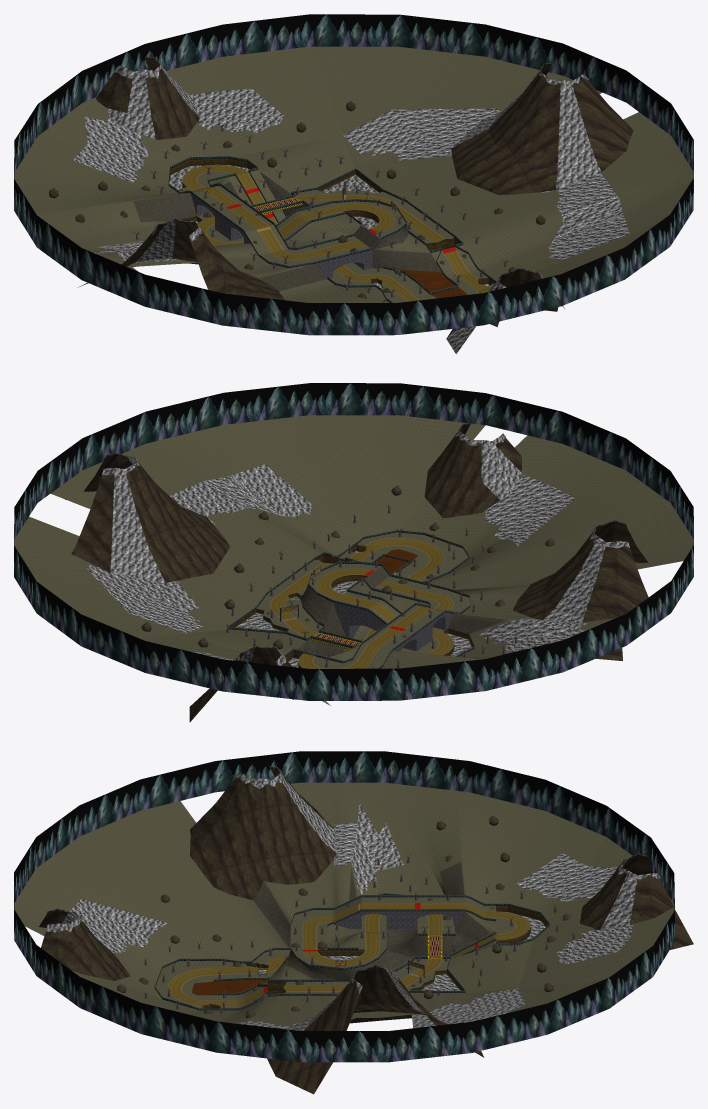
3 renders of one model, top to bottom at view 1: azimuth 30°, elevation 25°; view 2: azimuth 150°, elevation 25°; view 3: azimuth 270°, elevation 25°, orthographic. The views are drawn at different scales.
Parts seen in each view (by area): view 1: AutoSave_2_1-SKP--grass, AutoSave_2_1-SKP--bg, AutoSave_2_1-SKP--lava, AutoSave_2_1-SKP--gv_volc, AutoSave_2_1-SKP--vv_road, AutoSave_2_1-SKP--wl, AutoSave_2_1-SKP--fence, AutoSave_2_1-SKP--tree, AutoSave_2_1-SKP--wr, AutoSave_2_1-SKP--wm, AutoSave_2_1-SKP--vv_rock, AutoSave_2_1-SKP--tf_mud; view 2: AutoSave_2_1-SKP--grass, AutoSave_2_1-SKP--bg, AutoSave_2_1-SKP--lava, AutoSave_2_1-SKP--gv_volc, AutoSave_2_1-SKP--vv_road, AutoSave_2_1-SKP--fence, AutoSave_2_1-SKP--wl, AutoSave_2_1-SKP--wm, AutoSave_2_1-SKP--tree, AutoSave_2_1-SKP--wr, AutoSave_2_1-SKP--vv_rock, AutoSave_2_1-SKP--tf_mud; view 3: AutoSave_2_1-SKP--grass, AutoSave_2_1-SKP--bg, AutoSave_2_1-SKP--gv_volc, AutoSave_2_1-SKP--lava, AutoSave_2_1-SKP--vv_road, AutoSave_2_1-SKP--wl, AutoSave_2_1-SKP--fence, AutoSave_2_1-SKP--tree, AutoSave_2_1-SKP--vv_rock, AutoSave_2_1-SKP--wr, AutoSave_2_1-SKP--wm, AutoSave_2_1-SKP--tf_mud.
Boxes of the visible parts, x1=… form: AutoSave_2_1-SKP--grass: x1=14, y1=46, x2=693, y2=302; AutoSave_2_1-SKP--bg: x1=14, y1=14, x2=693, y2=335; AutoSave_2_1-SKP--lava: x1=73, y1=56, x2=629, y2=354; AutoSave_2_1-SKP--gv_volc: x1=77, y1=57, x2=633, y2=337; AutoSave_2_1-SKP--vv_road: x1=182, y1=164, x2=490, y2=301; AutoSave_2_1-SKP--wl: x1=133, y1=172, x2=441, y2=291; AutoSave_2_1-SKP--fence: x1=168, y1=156, x2=496, y2=302; AutoSave_2_1-SKP--tree: x1=132, y1=123, x2=509, y2=302; AutoSave_2_1-SKP--wr: x1=168, y1=158, x2=494, y2=287; AutoSave_2_1-SKP--wm: x1=191, y1=194, x2=456, y2=278; AutoSave_2_1-SKP--vv_rock: x1=49, y1=101, x2=545, y2=298; AutoSave_2_1-SKP--tf_mud: x1=401, y1=269, x2=466, y2=298; AutoSave_2_1-SKP--grass: x1=14, y1=415, x2=693, y2=668; AutoSave_2_1-SKP--bg: x1=14, y1=383, x2=693, y2=700; AutoSave_2_1-SKP--lava: x1=86, y1=423, x2=630, y2=705; AutoSave_2_1-SKP--gv_volc: x1=65, y1=424, x2=648, y2=722; AutoSave_2_1-SKP--vv_road: x1=269, y1=538, x2=453, y2=668; AutoSave_2_1-SKP--fence: x1=228, y1=530, x2=474, y2=668; AutoSave_2_1-SKP--wl: x1=296, y1=566, x2=507, y2=656; AutoSave_2_1-SKP--wm: x1=313, y1=565, x2=451, y2=651; AutoSave_2_1-SKP--tree: x1=225, y1=504, x2=518, y2=668; AutoSave_2_1-SKP--wr: x1=231, y1=544, x2=473, y2=667; AutoSave_2_1-SKP--vv_rock: x1=141, y1=485, x2=555, y2=668; AutoSave_2_1-SKP--tf_mud: x1=375, y1=549, x2=417, y2=573; AutoSave_2_1-SKP--grass: x1=14, y1=782, x2=674, y2=1026; AutoSave_2_1-SKP--bg: x1=14, y1=751, x2=674, y2=1062; AutoSave_2_1-SKP--gv_volc: x1=39, y1=767, x2=693, y2=1094; AutoSave_2_1-SKP--lava: x1=46, y1=766, x2=660, y2=1030; AutoSave_2_1-SKP--vv_road: x1=167, y1=903, x2=530, y2=1006; AutoSave_2_1-SKP--wl: x1=253, y1=862, x2=490, y2=981; AutoSave_2_1-SKP--fence: x1=154, y1=893, x2=549, y2=1010; AutoSave_2_1-SKP--tree: x1=143, y1=854, x2=576, y2=1013; AutoSave_2_1-SKP--vv_rock: x1=116, y1=816, x2=570, y2=1017; AutoSave_2_1-SKP--wr: x1=202, y1=905, x2=548, y2=1008; AutoSave_2_1-SKP--wm: x1=257, y1=911, x2=464, y2=993; AutoSave_2_1-SKP--tf_mud: x1=192, y1=980, x2=267, y2=995.
Bounding box in the file's own units: 135119 × 27782 × 136249.
21 materials, 21 textured.
